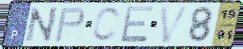8: (186, 5, 215, 44)
C: (90, 6, 123, 43)
E: (119, 5, 156, 45)
N: (24, 6, 60, 43)
P: (53, 6, 86, 44)
V: (159, 5, 192, 45)
